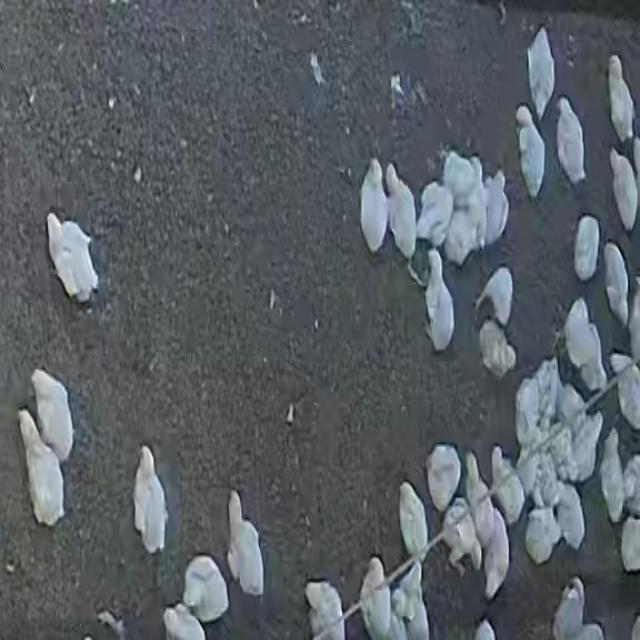chicken: (19, 409, 67, 525), (443, 151, 486, 262), (46, 213, 98, 302), (30, 368, 75, 464), (132, 447, 168, 554), (227, 491, 264, 595), (182, 555, 230, 624), (424, 251, 456, 351), (564, 298, 604, 378), (361, 152, 389, 256), (515, 105, 546, 198), (386, 164, 416, 260), (554, 98, 586, 186), (360, 558, 394, 640), (417, 176, 454, 251), (467, 459, 497, 551), (393, 561, 428, 639), (303, 576, 345, 640), (550, 476, 585, 550), (399, 483, 430, 566), (607, 53, 636, 141), (527, 28, 555, 118), (493, 450, 525, 526), (483, 508, 510, 598), (427, 444, 462, 512), (609, 148, 637, 233), (570, 408, 603, 479), (474, 268, 514, 326), (478, 318, 516, 378), (601, 432, 627, 519), (521, 505, 559, 564), (603, 243, 628, 323), (554, 578, 587, 638), (482, 171, 508, 247), (573, 214, 601, 280), (518, 377, 542, 454), (615, 362, 640, 429)
